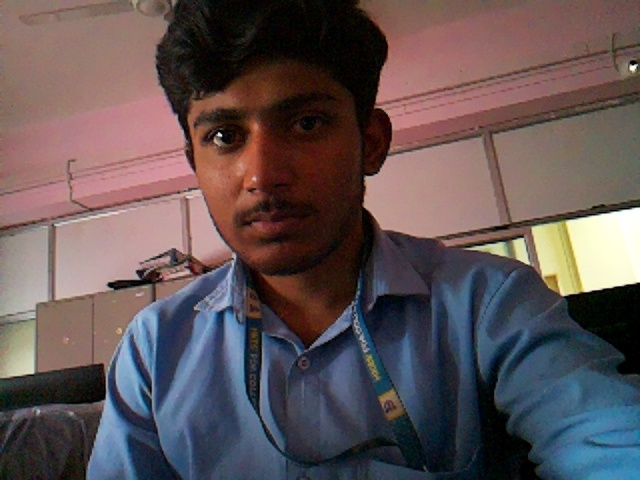Vaibhav: (153, 0, 395, 275)
